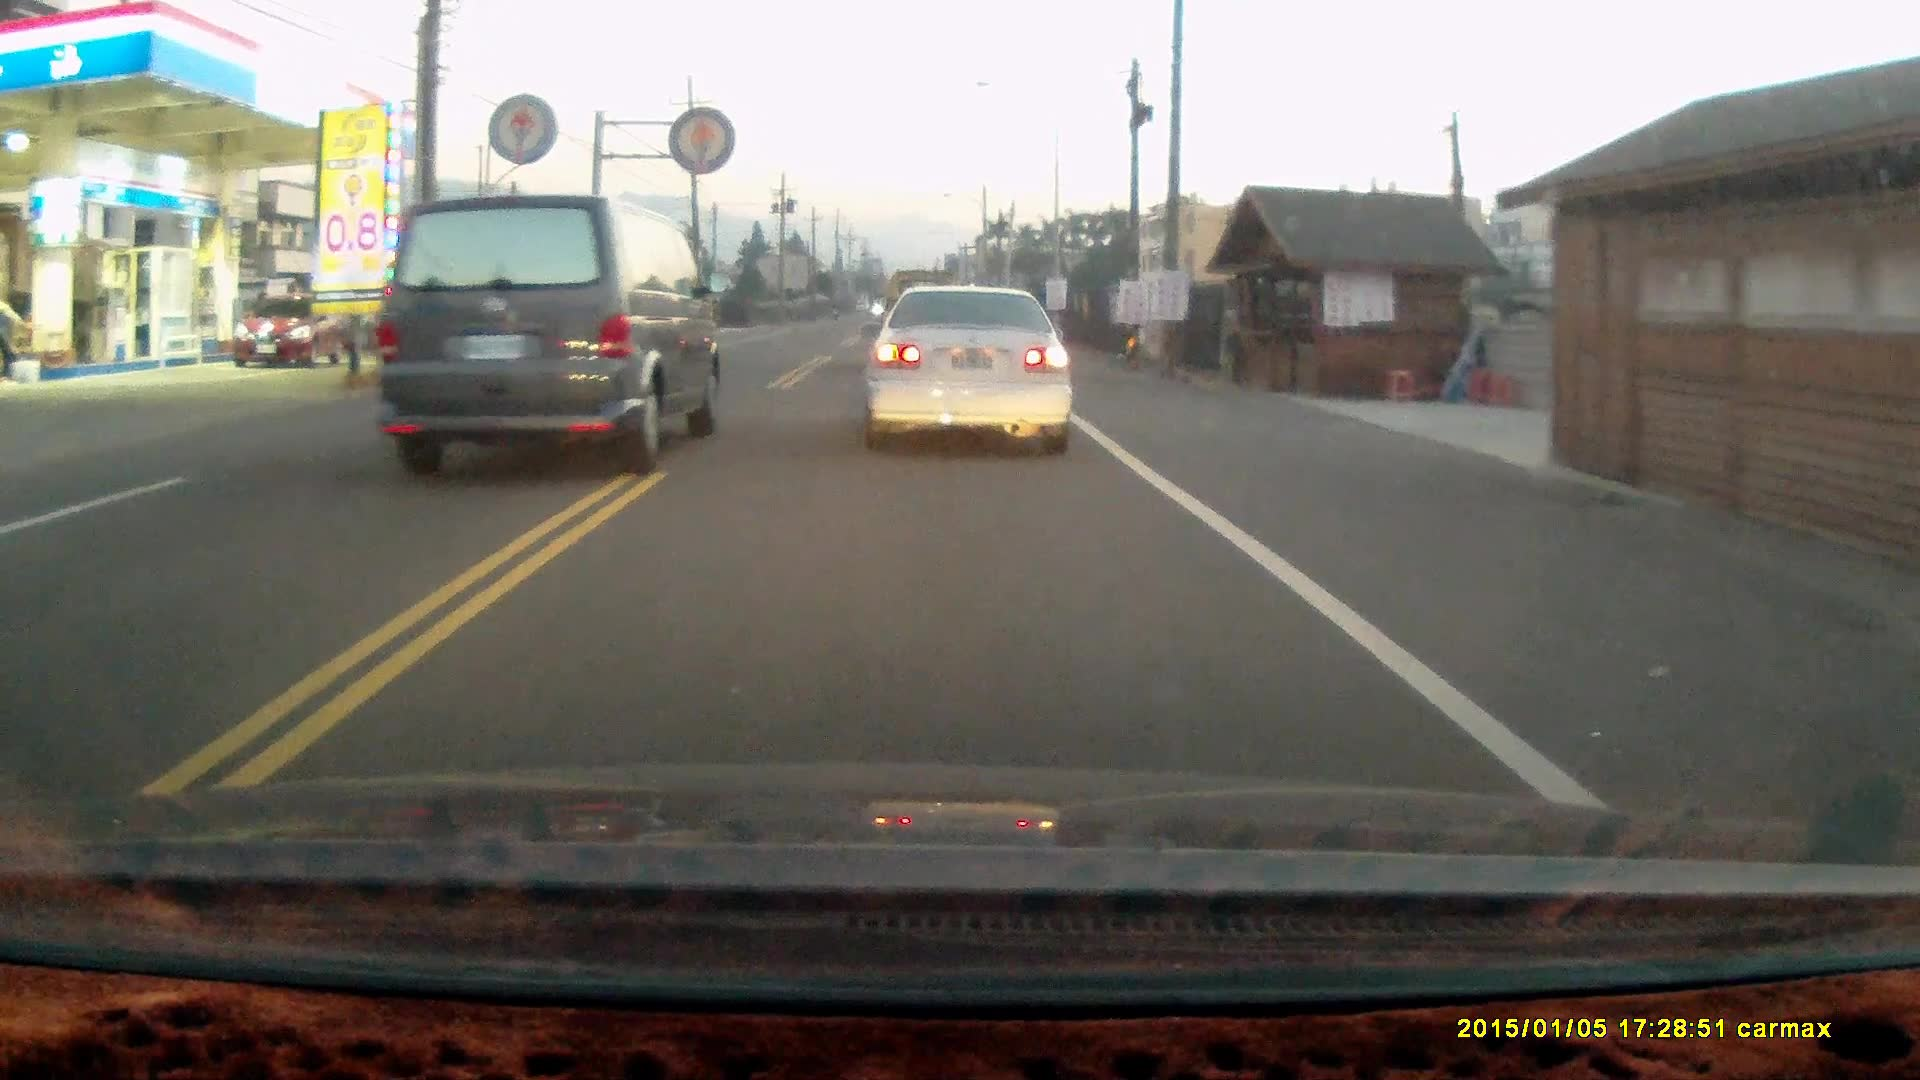pedestrian: (0, 295, 26, 378)
vehicle: (371, 188, 726, 474), (863, 280, 1080, 459), (237, 292, 331, 367)
